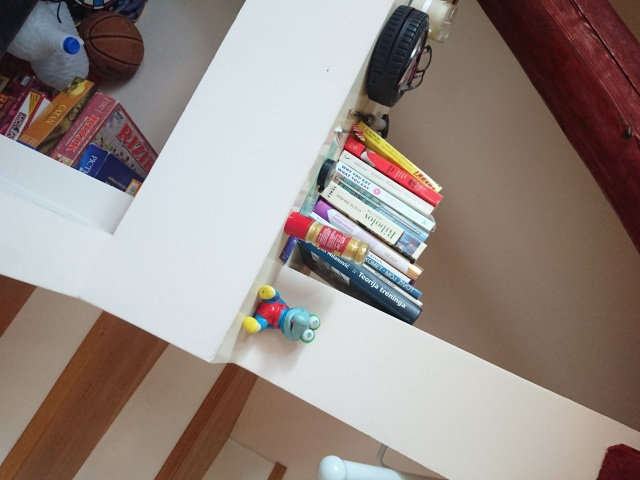Kotanyi Curry Spices Mix 70g: (282, 208, 373, 268)
